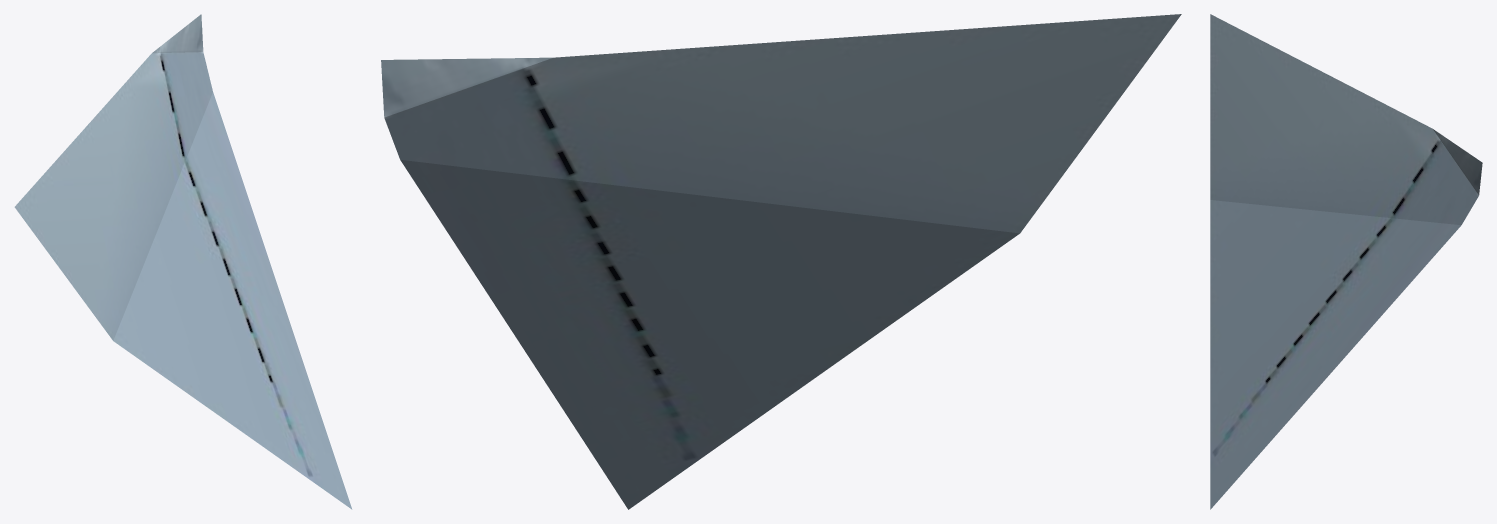
3 renders of one model, left to right at view 1: azimuth 30°, elevation 25°; view 2: azimuth 150°, elevation 25°; view 3: azimuth 270°, elevation 25°, orthographic. The views are drawn at different scales.
Bounding box in the file's own units: 0.4703 × 0.5123 × 0.364.
Materials: 1 (1 with a texture image).
